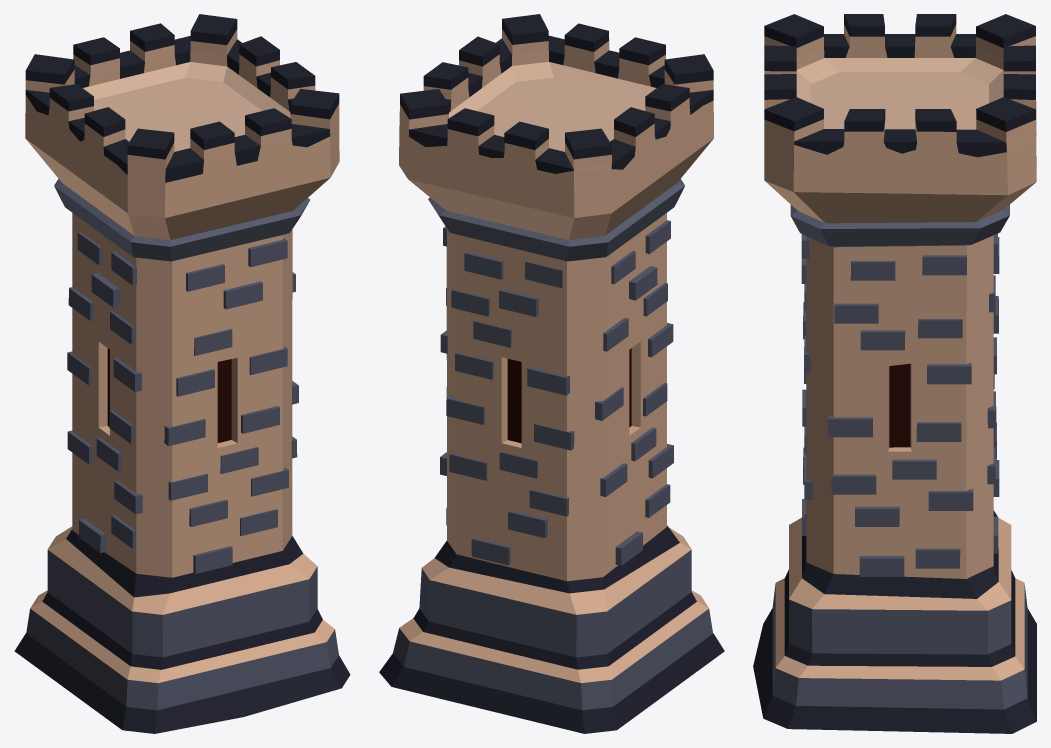
Rendered from Tower1.fbx.
The picture shows the model from 3 angles, left to right: view 1: azimuth 30°, elevation 25°; view 2: azimuth 150°, elevation 25°; view 3: azimuth 270°, elevation 25°; orthographic projection. The views are drawn at different scales.
Visible parts, largest first — view 1: Tower1; view 2: Tower1; view 3: Tower1.
Part boxes in pixels (left/top/right/bottom): Tower1: left=14, top=14, right=350, bottom=733; Tower1: left=379, top=14, right=724, bottom=733; Tower1: left=753, top=14, right=1036, bottom=733.
Size of what is drawn, in the model's own units: 438 by 1023 by 436.
